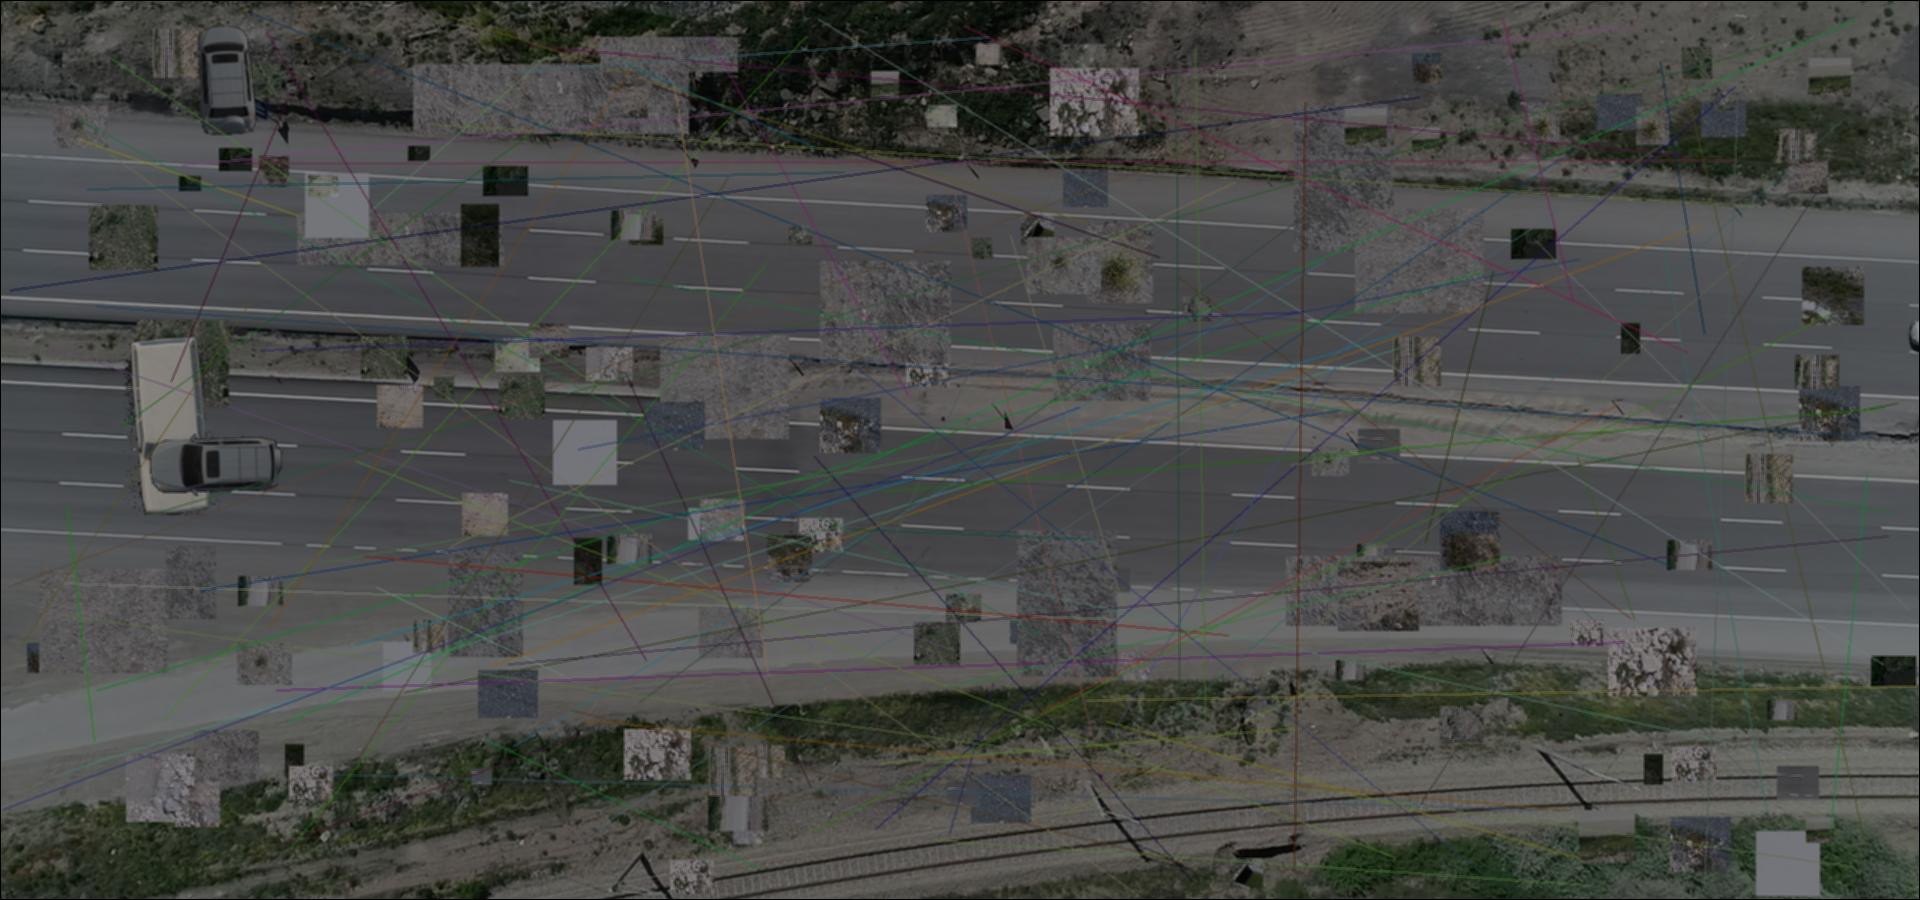arac: (124, 336, 219, 516), (147, 430, 282, 497), (190, 24, 262, 136)
